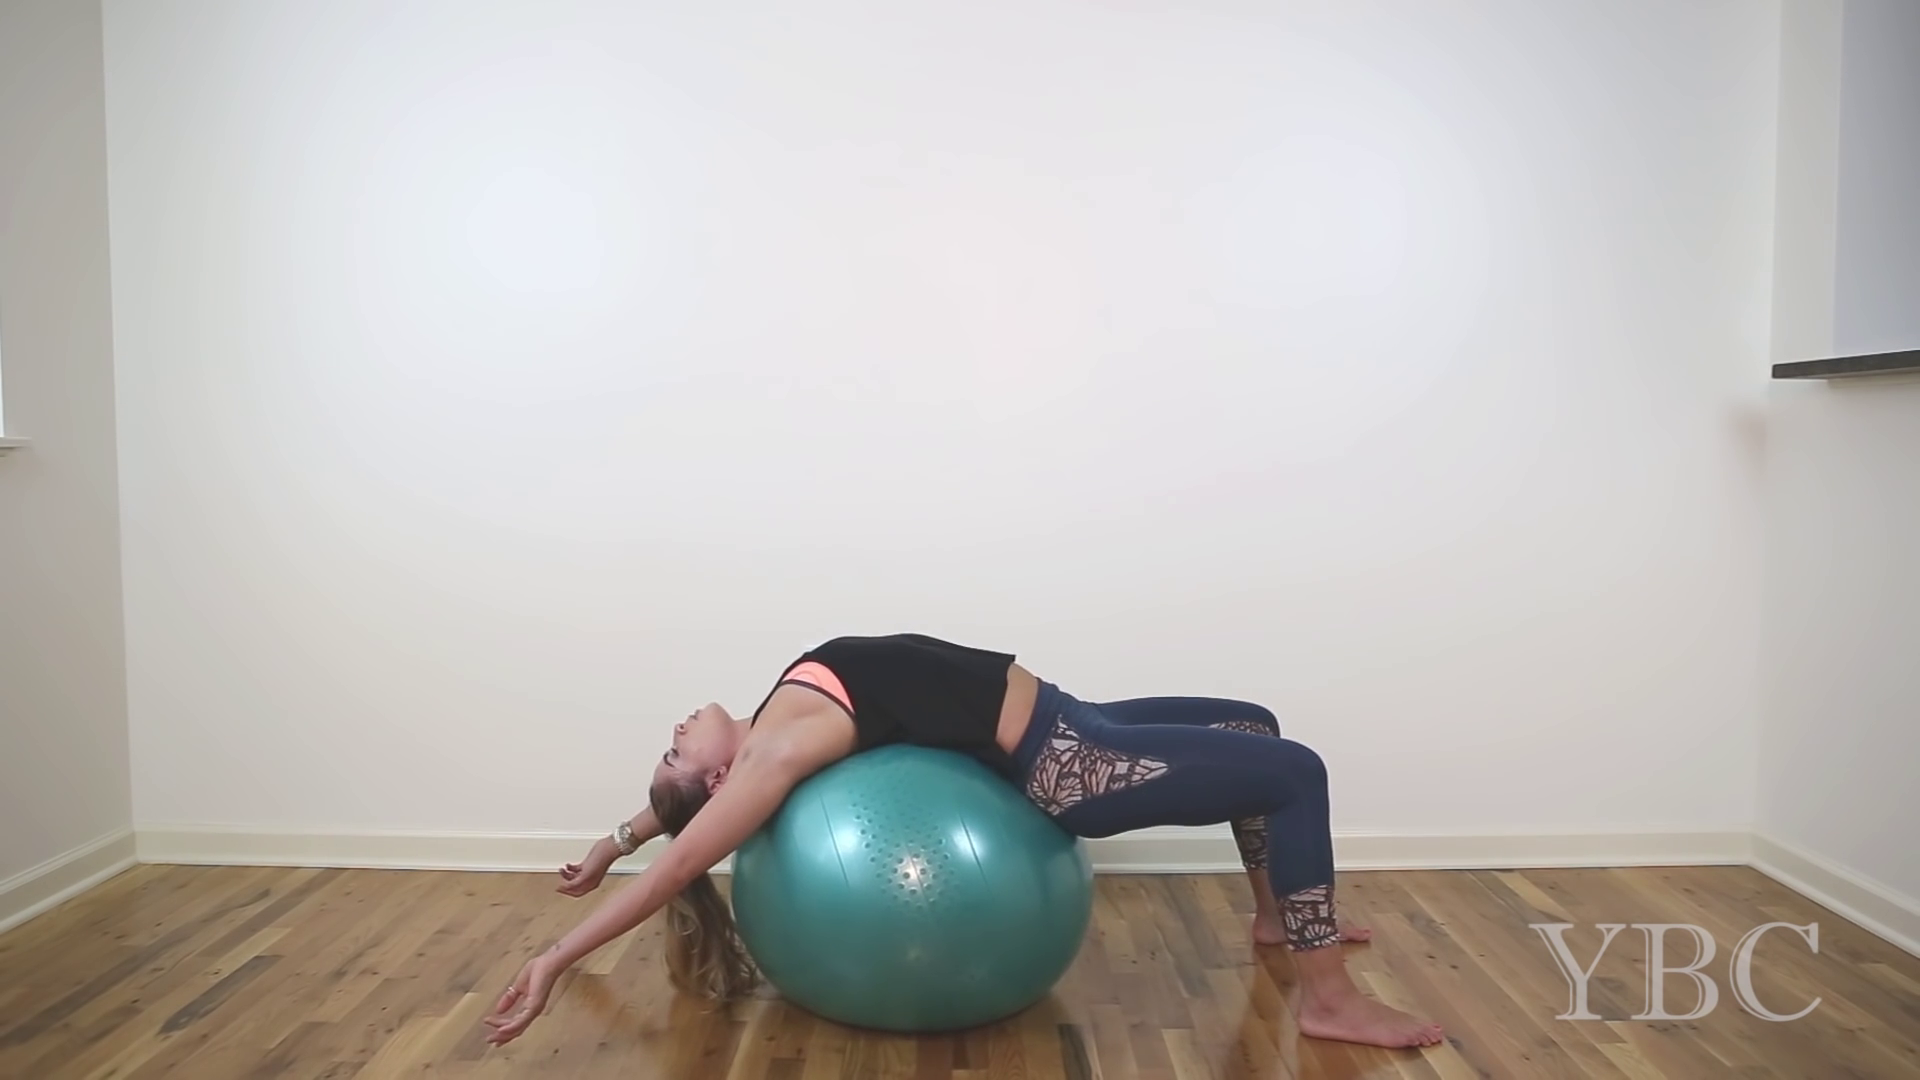yogaball: (724, 738, 1097, 1040)
